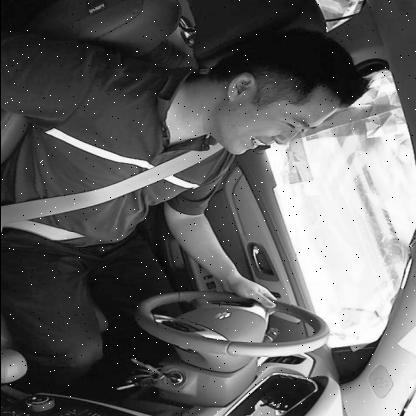seatbelt: (46, 27, 370, 224)
